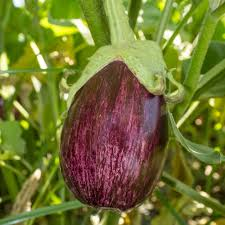eggplant: (54, 0, 180, 210)
